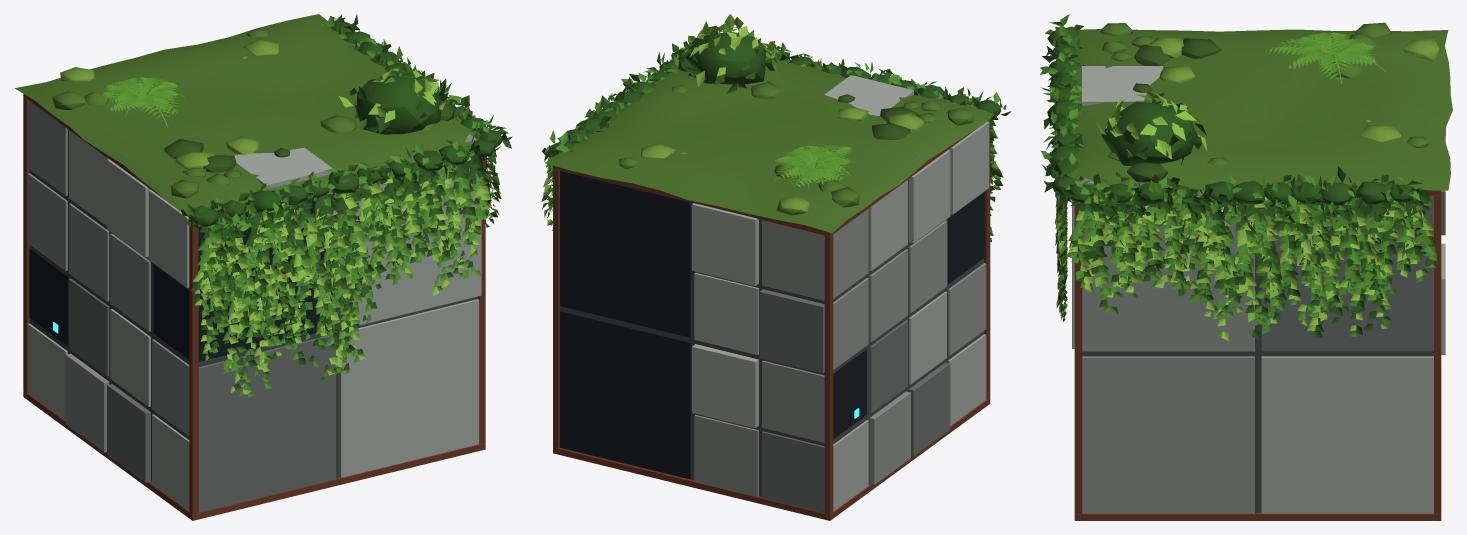
The model's file is RUIN_BLK_CubeOvergrown_4.glb.
3 views of the same model, side by side, from view 1: azimuth 30°, elevation 25°; view 2: azimuth 150°, elevation 25°; view 3: azimuth 270°, elevation 25° (orthographic). The views are drawn at different scales.
Visible parts, largest first — view 1: RUIN_BLK_CubeOvergrown_4; view 2: RUIN_BLK_CubeOvergrown_4; view 3: RUIN_BLK_CubeOvergrown_4.
Part boxes in pixels (<box>): RUIN_BLK_CubeOvergrown_4: <box>15,14,512,520</box>; RUIN_BLK_CubeOvergrown_4: <box>541,14,1011,520</box>; RUIN_BLK_CubeOvergrown_4: <box>1040,14,1452,520</box>.
Bounding box in the file's own units: 4.72 × 4.87 × 4.6.
